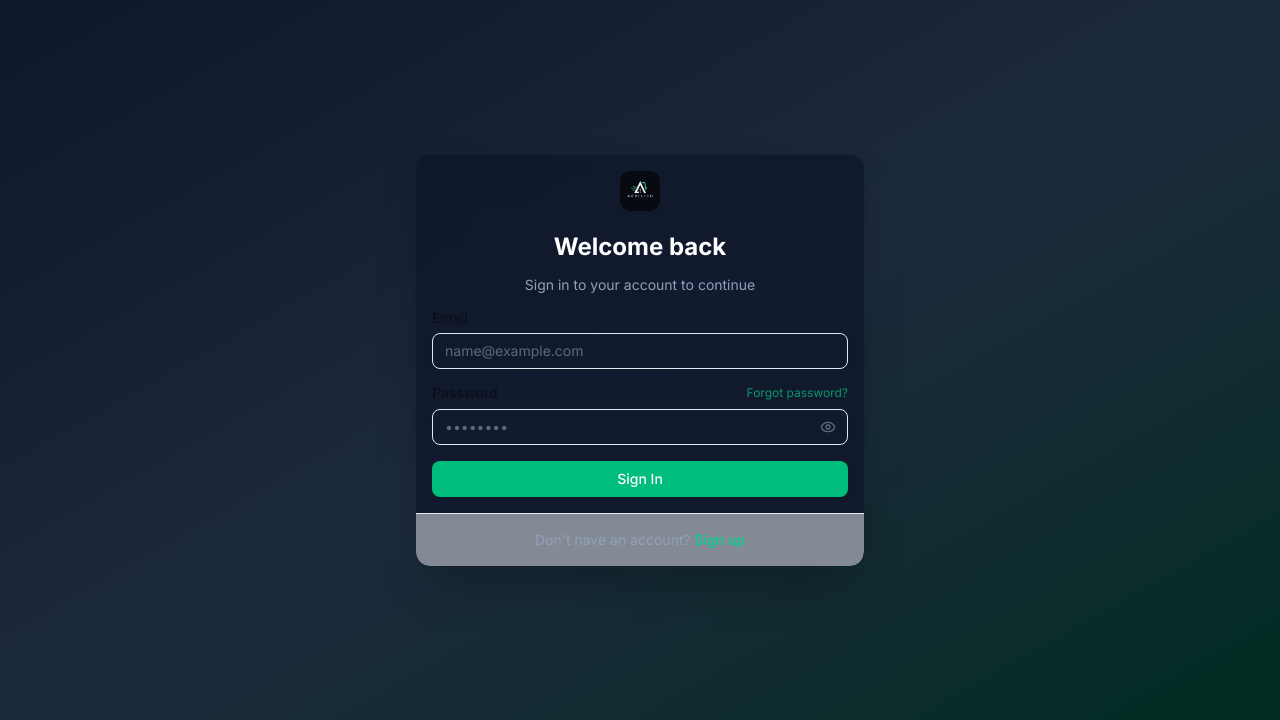
Test: Login Page – Validation › password only (no email) shows email required
Type "Password@123!" into the password field with placeholder "••••••••". click: (640, 427)
box: top-left (432, 409), bottom-right (848, 445)
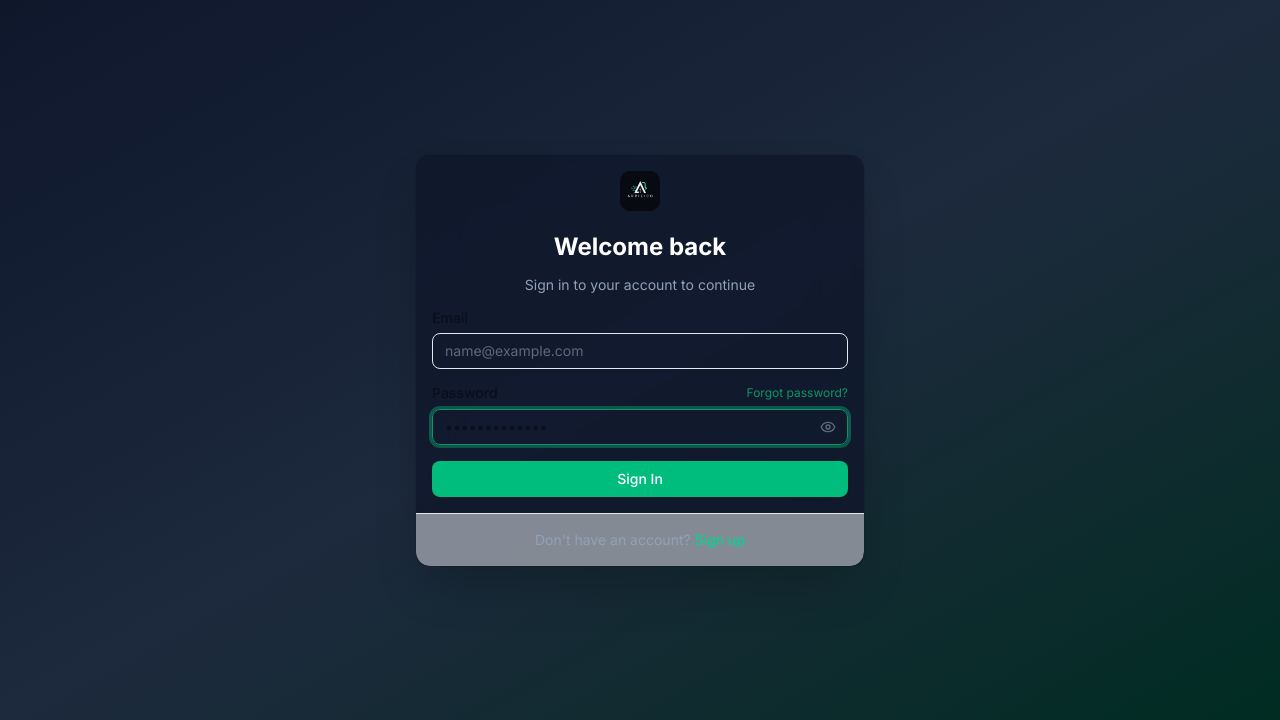
Click the submit button. click: (640, 479)
box: top-left (432, 461), bottom-right (848, 497)
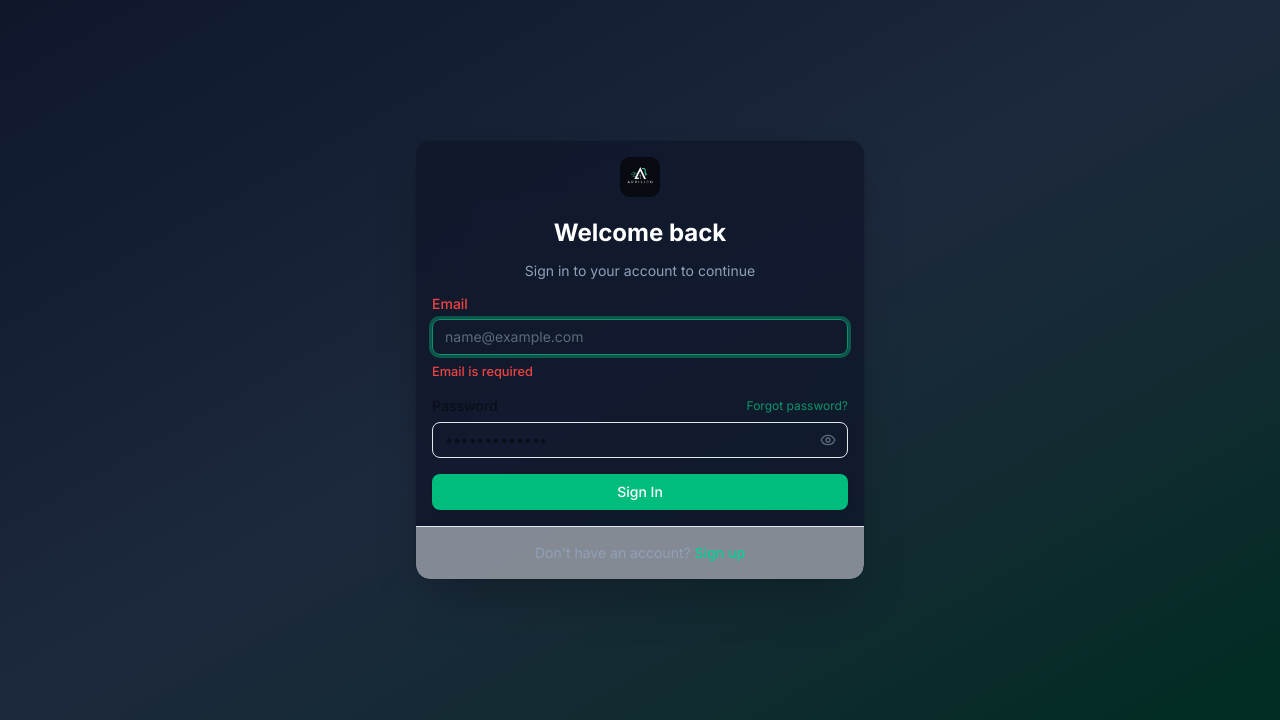
Expected: the text "Email is required" is shown, top-left (432, 364), bottom-right (533, 379)
